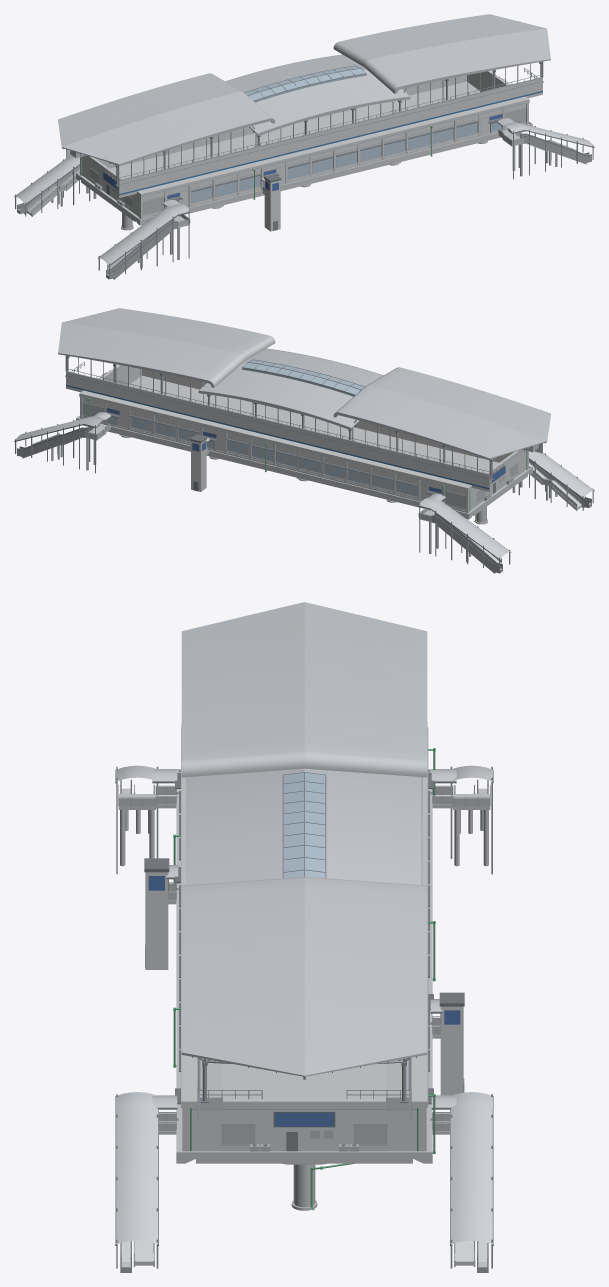
3 views of the same model, one above another, from view 1: azimuth 30°, elevation 25°; view 2: azimuth 150°, elevation 25°; view 3: azimuth 270°, elevation 25° (orthographic). The views are drawn at different scales.
Parts seen in each view (by area): view 1: BL05, BL05_conc, BL05_access; view 2: BL05, BL05_conc, BL05_access; view 3: BL05, BL05_access, BL05_conc.
Boxes of the visible parts, bbox=[...] form: BL05: bbox=[58, 14, 550, 197]; BL05_conc: bbox=[76, 70, 532, 230]; BL05_access: bbox=[14, 76, 594, 279]; BL05: bbox=[58, 308, 550, 491]; BL05_conc: bbox=[76, 364, 532, 524]; BL05_access: bbox=[14, 370, 594, 573]; BL05: bbox=[181, 602, 427, 1123]; BL05_access: bbox=[115, 748, 493, 1272]; BL05_conc: bbox=[175, 722, 433, 1210].
Size of the model in its own units: 126 by 28 by 42.5.
